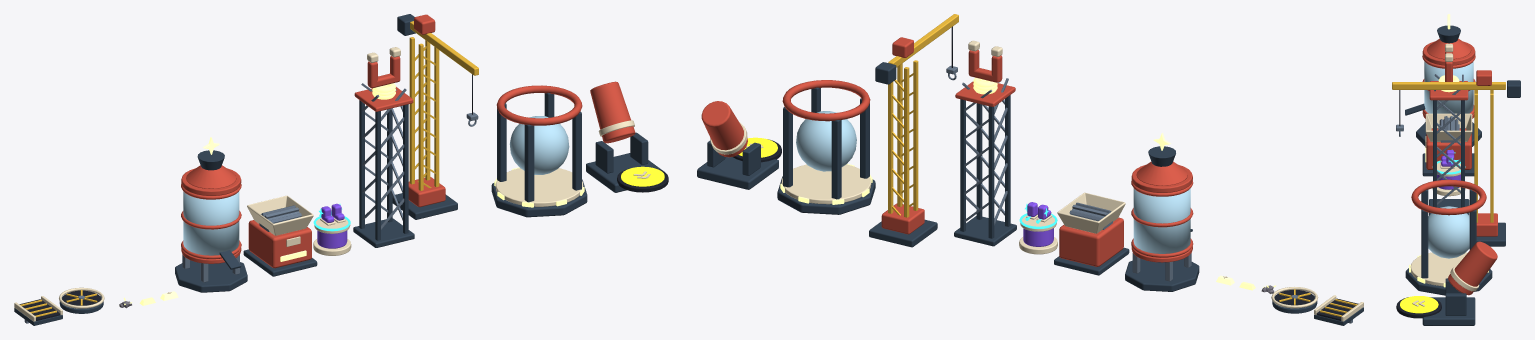
3 renders of one model, left to right at view 1: azimuth 30°, elevation 25°; view 2: azimuth 150°, elevation 25°; view 3: azimuth 270°, elevation 25°, orthographic. The views are drawn at different scales.
Visible parts, largest first — view 1: TwinRack__Mast__Yellow, Silo__Tank__Glass, MagnetTower__Legs__Steel, StarforgeCore__Pillars__Steel, StarforgeCore__Shell__Glass, StarforgeCore__Deck__Cream, CrusherMk2__Housing__Red, MeteorChute__Barrel__Red, Silo__Base__Steel, MagnetTower__Braces__SteelLight, StarforgeCore__Crown__Red, Silo__Cap__Red (+16 smaller); view 2: TwinRack__Mast__Yellow, MagnetTower__Legs__Steel, Silo__Tank__Glass, StarforgeCore__Pillars__Steel, StarforgeCore__Shell__Glass, StarforgeCore__Deck__Cream, CrusherMk2__Housing__Red, Silo__Base__Steel, MeteorChute__Barrel__Red, StarforgeCore__Crown__Red, MagnetTower__Braces__SteelLight, MeteorChute__Base__Steel (+15 smaller); view 3: StarforgeCore__Shell__Glass, MeteorChute__Barrel__Red, Silo__Tank__Glass, StarforgeCore__Crown__Red, StarforgeCore__Pillars__Steel, StarforgeCore__Deck__Cream, TwinRack__Mast__Yellow, Silo__Cap__Red, MeteorChute__Base__Steel, TwinRack__Arm__Yellow, MagnetTower__Legs__Steel, CrusherMk2__Hopper__Cream (+24 smaller).
Boxes of the visible parts, x1=… form: TwinRack__Mast__Yellow: x1=409, y1=37, x2=439, y2=190; Silo__Tank__Glass: x1=183, y1=191, x2=239, y2=255; MagnetTower__Legs__Steel: x1=359, y1=100, x2=408, y2=240; StarforgeCore__Pillars__Steel: x1=497, y1=93, x2=581, y2=202; StarforgeCore__Shell__Glass: x1=509, y1=116, x2=569, y2=174; StarforgeCore__Deck__Cream: x1=495, y1=168, x2=583, y2=206; CrusherMk2__Housing__Red: x1=248, y1=220, x2=311, y2=268; MeteorChute__Barrel__Red: x1=590, y1=81, x2=635, y2=143; Silo__Base__Steel: x1=175, y1=260, x2=247, y2=292; MagnetTower__Braces__SteelLight: x1=361, y1=83, x2=406, y2=229; StarforgeCore__Crown__Red: x1=496, y1=85, x2=582, y2=125; Silo__Cap__Red: x1=181, y1=165, x2=241, y2=195; TwinRack__Mast__Yellow: x1=888, y1=60, x2=918, y2=217; MagnetTower__Legs__Steel: x1=960, y1=95, x2=1010, y2=238; Silo__Tank__Glass: x1=1133, y1=188, x2=1190, y2=253; StarforgeCore__Pillars__Steel: x1=783, y1=87, x2=869, y2=199; StarforgeCore__Shell__Glass: x1=796, y1=111, x2=856, y2=171; StarforgeCore__Deck__Cream: x1=781, y1=164, x2=871, y2=204; CrusherMk2__Housing__Red: x1=1059, y1=217, x2=1123, y2=266; Silo__Base__Steel: x1=1125, y1=258, x2=1199, y2=291; MeteorChute__Barrel__Red: x1=701, y1=101, x2=747, y2=157; StarforgeCore__Crown__Red: x1=782, y1=80, x2=870, y2=121; MagnetTower__Braces__SteelLight: x1=962, y1=78, x2=1008, y2=225; MeteorChute__Base__Steel: x1=697, y1=157, x2=778, y2=189; StarforgeCore__Shell__Glass: x1=1428, y1=206, x2=1469, y2=258; MeteorChute__Barrel__Red: x1=1448, y1=241, x2=1497, y2=295; Silo__Tank__Glass: x1=1424, y1=61, x2=1473, y2=113; StarforgeCore__Crown__Red: x1=1411, y1=179, x2=1486, y2=215; StarforgeCore__Pillars__Steel: x1=1421, y1=189, x2=1476, y2=278; StarforgeCore__Deck__Cream: x1=1410, y1=252, x2=1467, y2=286; TwinRack__Mast__Yellow: x1=1474, y1=90, x2=1493, y2=222; Silo__Cap__Red: x1=1422, y1=38, x2=1475, y2=65; MeteorChute__Base__Steel: x1=1422, y1=297, x2=1475, y2=325; TwinRack__Arm__Yellow: x1=1392, y1=82, x2=1505, y2=89; MagnetTower__Legs__Steel: x1=1433, y1=100, x2=1464, y2=207; CrusherMk2__Hopper__Cream: x1=1425, y1=113, x2=1472, y2=141.
Bounding box in the file's own units: 72.7 × 20.8 × 14.7.
